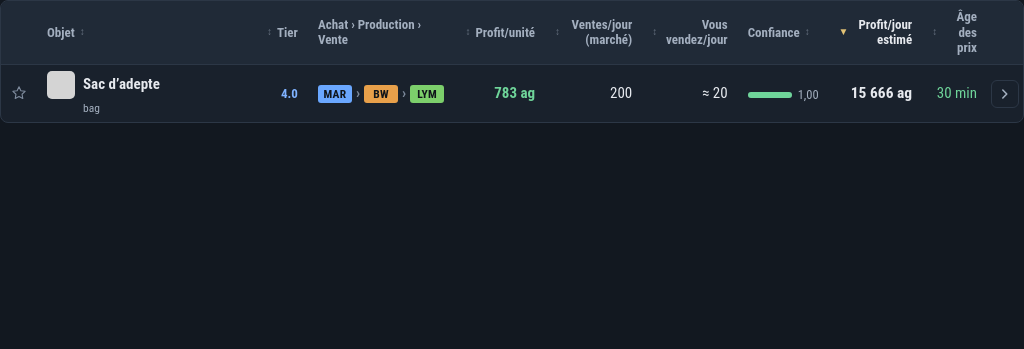
Test: classements : colonnes et détail par ligne › panneau de détail dépliable, au clavier (bouton + aria-expanded)
Step 1. Click the button named "Détail du calcul : Sac d’adepte" → click(1005, 94), box [991, 80, 1019, 108]
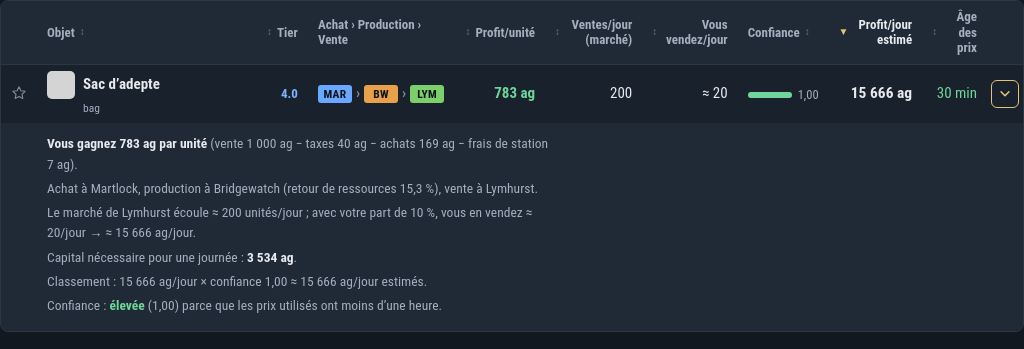
Now the button named "Détail du calcul : Sac d’adepte" is expanded
Step 2. Click the button named "Détail du calcul : Sac d’adepte" → click(1005, 94), box [991, 80, 1019, 108]
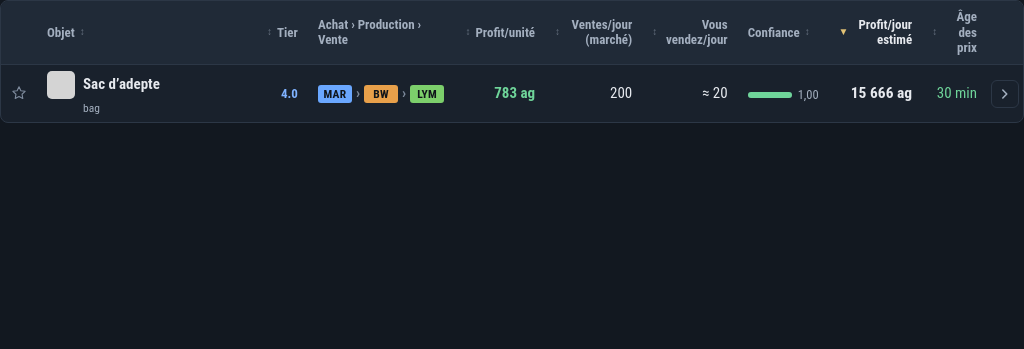
Now the button named "Détail du calcul : Sac d’adepte" is collapsed, box [991, 80, 1019, 108]
